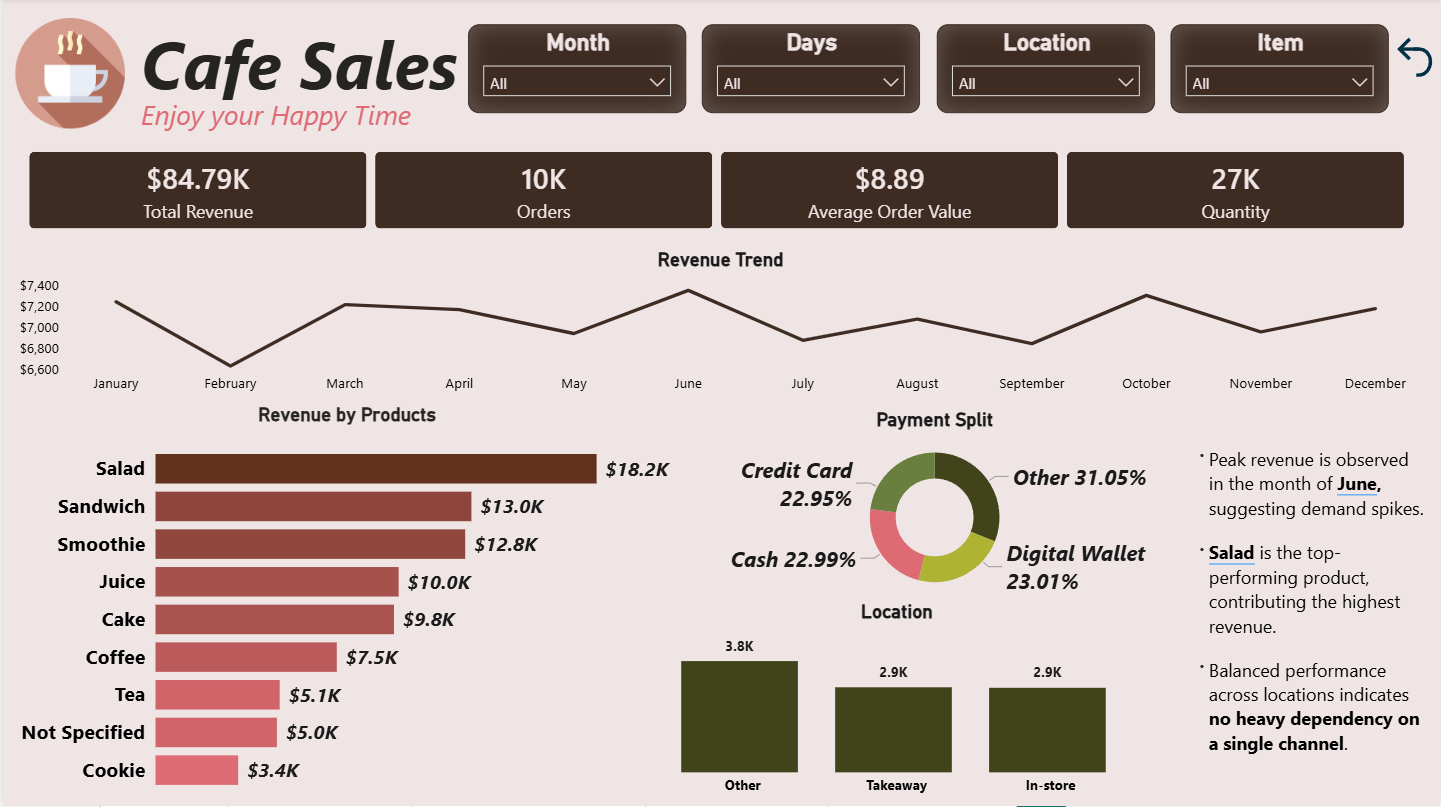

The page's visual inventory and layout, read from the dashboard file:
{"tool":"powerbi","page":{"name":"HERO DASHBOARD","canvas":[1280,720],"ordinal":1},"visuals":[{"type":"image","box":[2.6,17.6,115.4,98.1],"z":0},{"type":"textbox","box":[118,13.3,321.7,102.4],"z":1000},{"type":"textbox","box":[118,82.5,341.9,66.4],"z":2000},{"type":"cardVisual","fields":{"Data":["Measures Table.Total Revenue","Measures Table.Total Orders","Measures Table.AOV","Measures Table.Total Quantity"]},"box":[7.2,119.7,1259.5,102.4],"z":3000},{"type":"slicer","title":"Month","fields":{"Values":["cafe dim_date_view.Month Name"]},"box":[413.6,22.9,194.8,79.4],"z":4000},{"type":"slicer","title":"Days","fields":{"Values":["cafe dim_date_view.Day Name"]},"box":[622.3,22.9,194.8,79.4],"z":5000},{"type":"slicer","title":"Location","fields":{"Values":["cafe dim_location_view.Location_Name"]},"box":[831,22.9,194.8,79.4],"z":6000},{"type":"slicer","title":"Item","fields":{"Values":["cafe dim_item_view.Item_Name"]},"box":[1039.7,22.9,194.8,79.4],"z":7000},{"type":"lineChart","title":"Revenue Trend","fields":{"Y":["Measures Table.Total Revenue"],"Category":["cafe dim_date_view.Month Name"]},"box":[10.1,222.2,1258.1,138.5],"z":8000},{"type":"barChart","title":"Revenue by Products","fields":{"Category":["cafe dim_item_view.Item_Name"],"Y":["Measures Table.Total Revenue"]},"box":[10.1,360.7,593,359.2],"z":9000},{"type":"donutChart","title":"Payment Split","fields":{"Y":["Measures Table.Total Revenue"],"Category":["cafe dim_payment_view.Payment_Method"]},"box":[603.1,365,453,176],"z":10000},{"type":"columnChart","title":"Location","fields":{"Category":["cafe dim_location_view.Location_Name"],"Y":["Measures Table.Total Orders"]},"box":[543.9,536.7,503.5,183.2],"z":11000},{"type":"group","id":"g1","title":"Group 1","box":[1050.8,394.5,223.2,325.7],"z":12000},{"type":"textbox","box":[1050.8,394.5,223.2,325.7],"z":12000,"group":"g2"},{"type":"actionButton","box":[1234.2,22.9,45.8,59.1],"z":13000},{"type":"group","id":"g2","title":"Group 2","box":[1050.8,394.5,223.2,325.7],"z":13002,"group":"g1"}]}

Visuals, with their boxes in screenshot pixels (x1, y1, x2, y2), scaled from the page's 1280x720 canvas onto the 1441x807 screenshot:
image: [3,20,133,130]
textbox: [133,15,495,130]
textbox: [133,92,518,167]
cardVisual - Measures Table.Total Revenue x Measures Table.Total Orders: [8,134,1426,249]
"Month" slicer: [466,26,685,115]
"Days" slicer: [701,26,920,115]
"Location" slicer: [936,26,1155,115]
"Item" slicer: [1170,26,1390,115]
"Revenue Trend" lineChart: [11,249,1428,404]
"Revenue by Products" barChart: [11,404,679,806]
"Payment Split" donutChart: [679,409,1189,606]
"Location" columnChart: [612,602,1179,806]
"Group 1" group: [1183,442,1434,806]
textbox: [1183,442,1434,806]
actionButton: [1389,26,1440,92]
"Group 2" group: [1183,442,1434,806]
